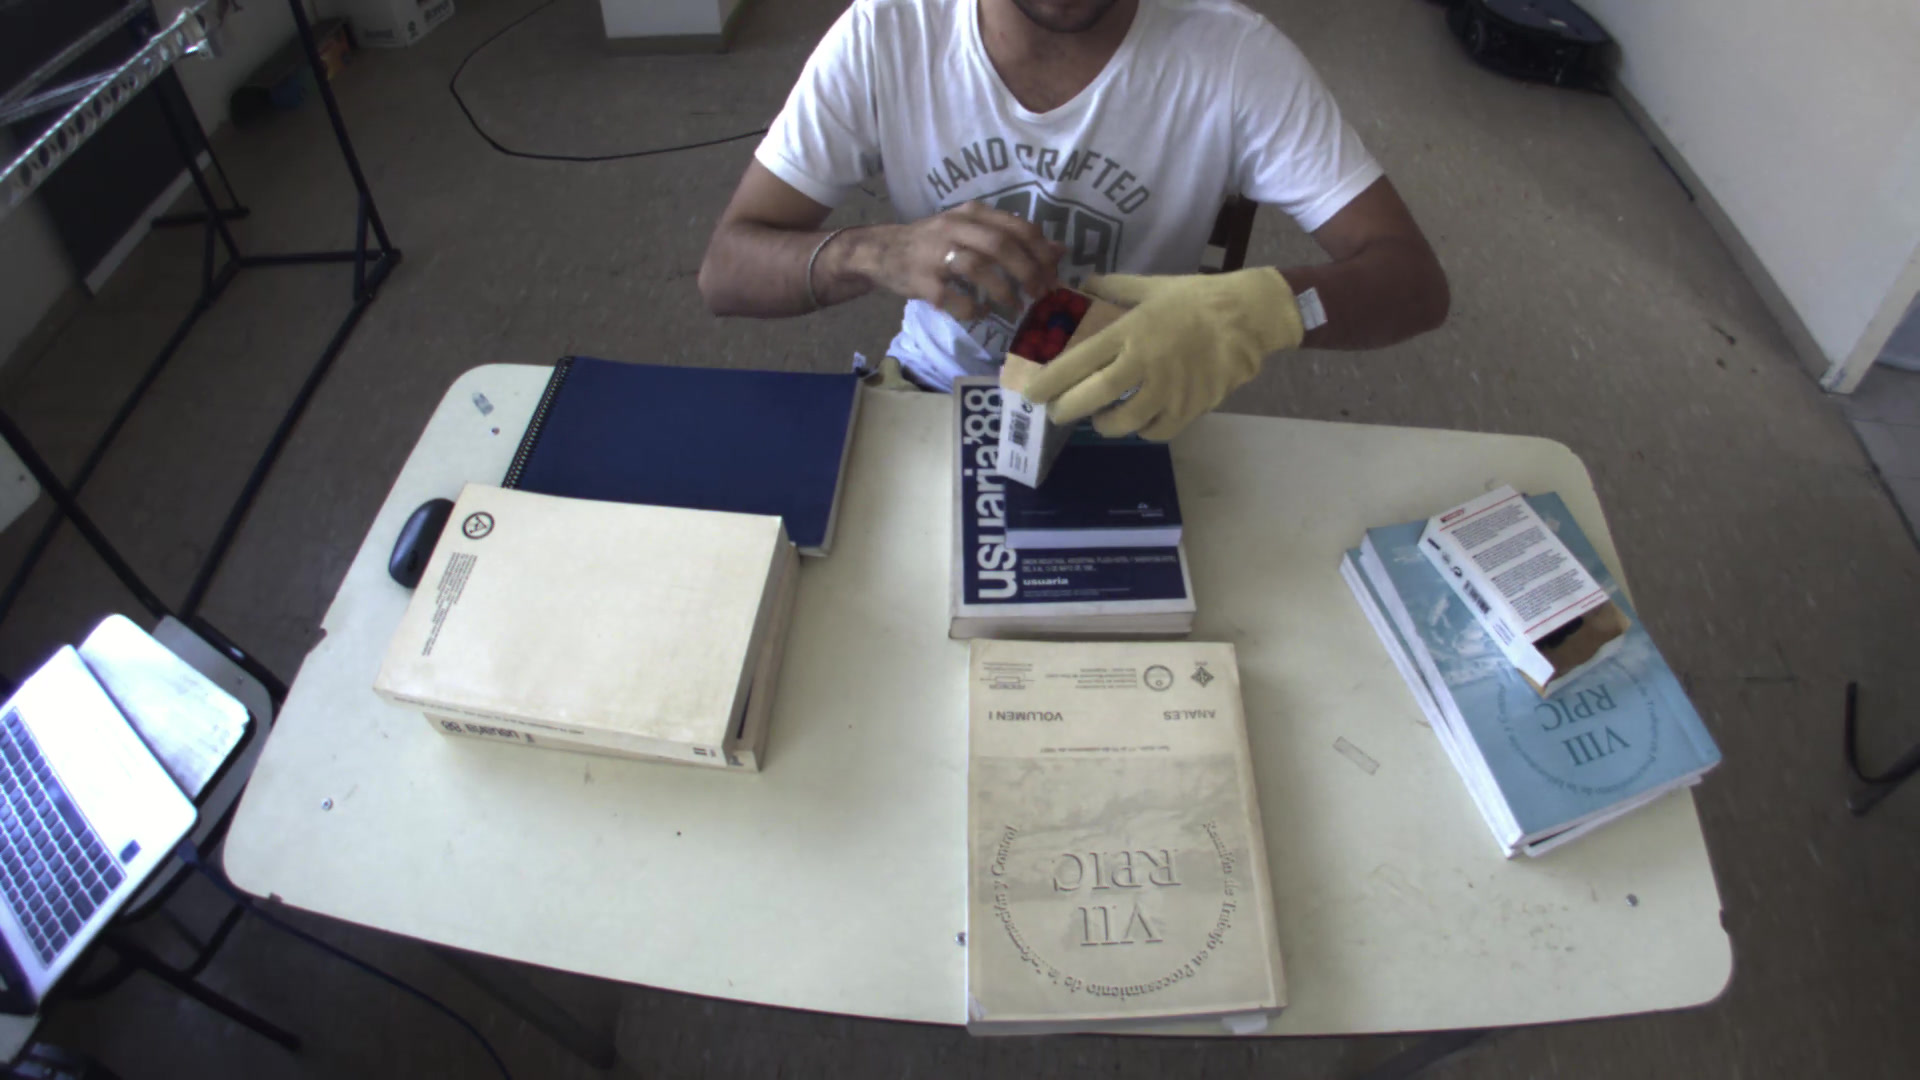hand: (993, 243, 1327, 451), (861, 191, 1073, 319)
